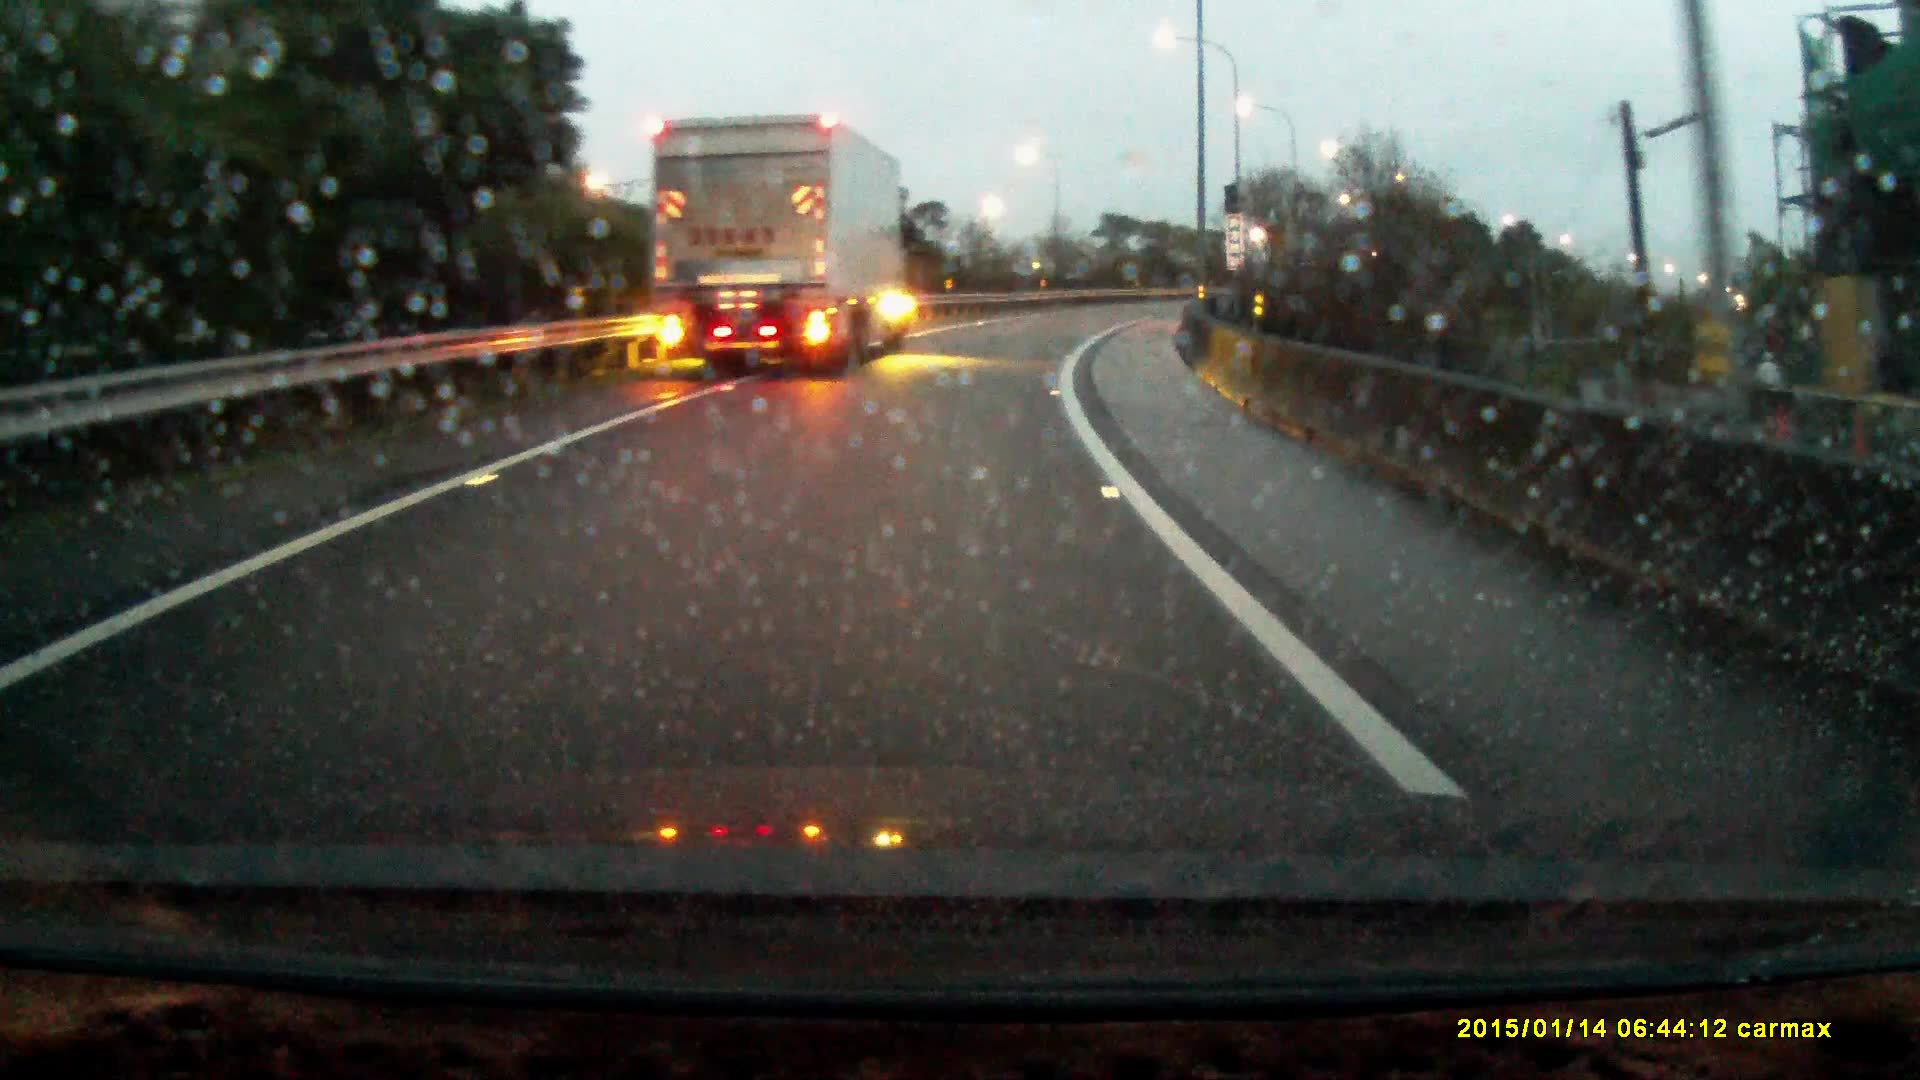vehicle: (645, 111, 916, 378)
